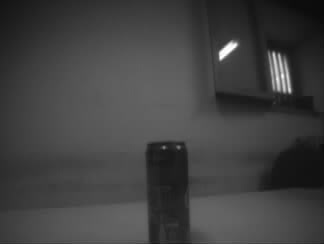Tin can: (145, 141, 191, 244)
